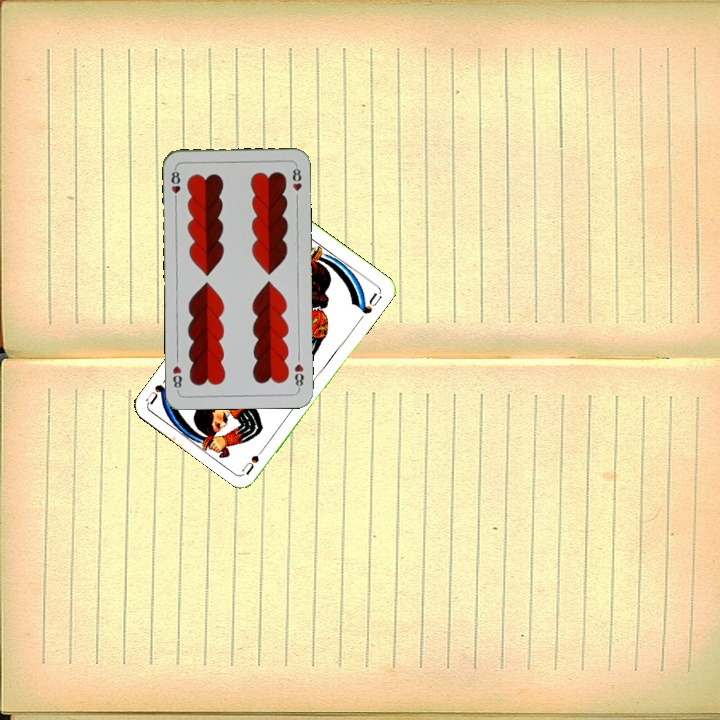H8: (167, 164, 183, 205), (290, 360, 306, 392)
SU: (239, 440, 270, 477)
